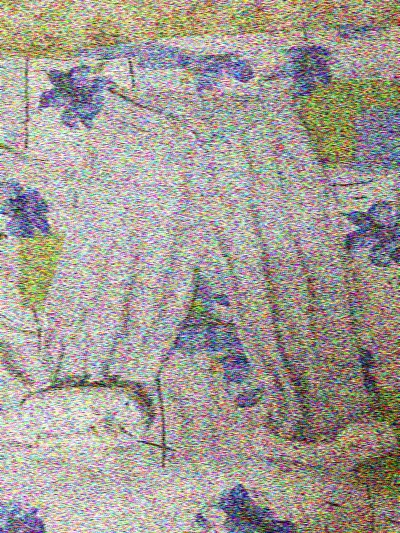Pants: (16, 73, 397, 478)
